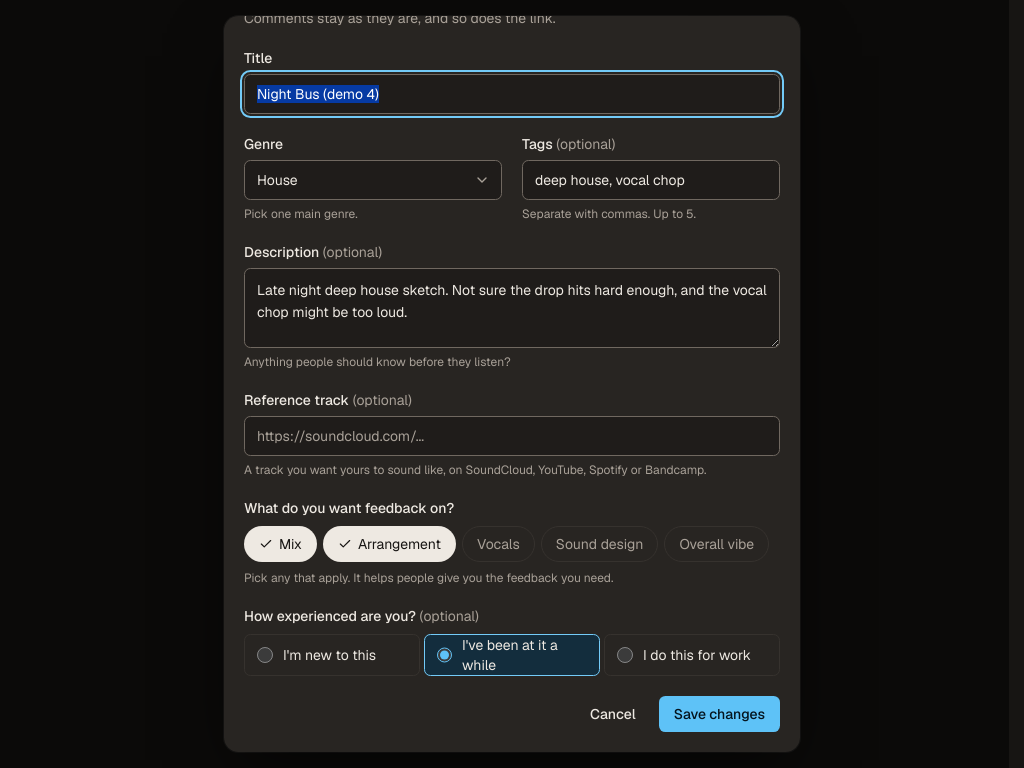
EditTrackDialog › stays open with a message when saving fails
The width and height of the screenshot is (1024, 768).
(page scrolled)
Click the button "Save changes".
click(719, 714)  # box [659,696,780,732]
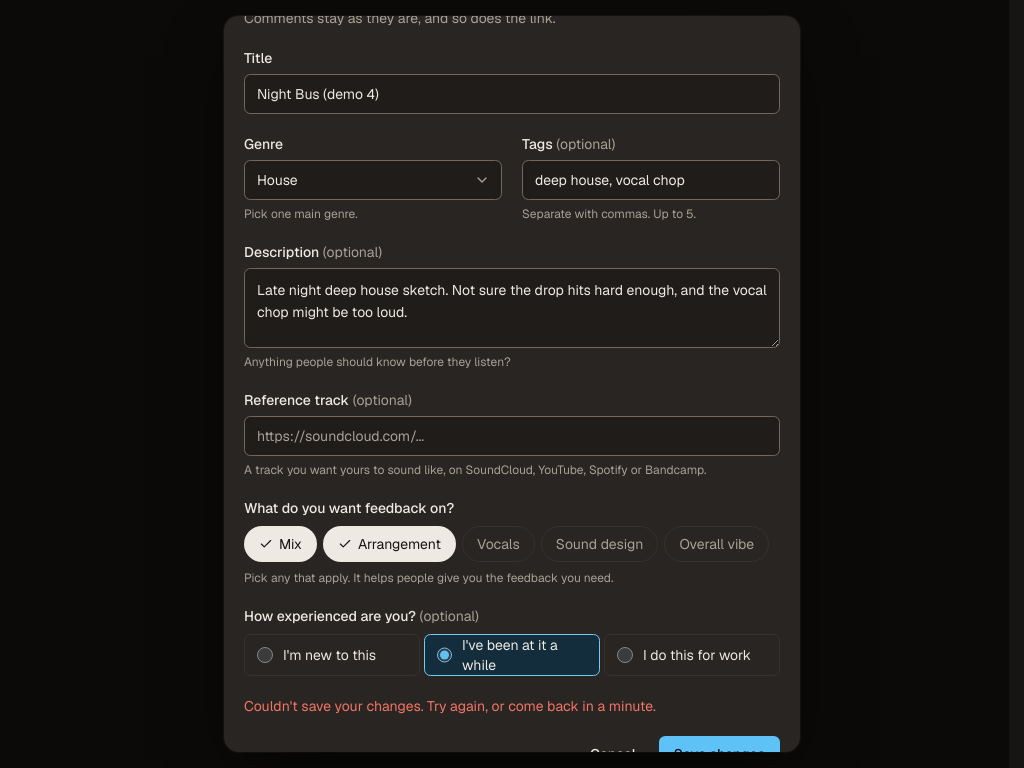
Result: the message shows "Couldn't save your changes." at [244,696,656,714]
